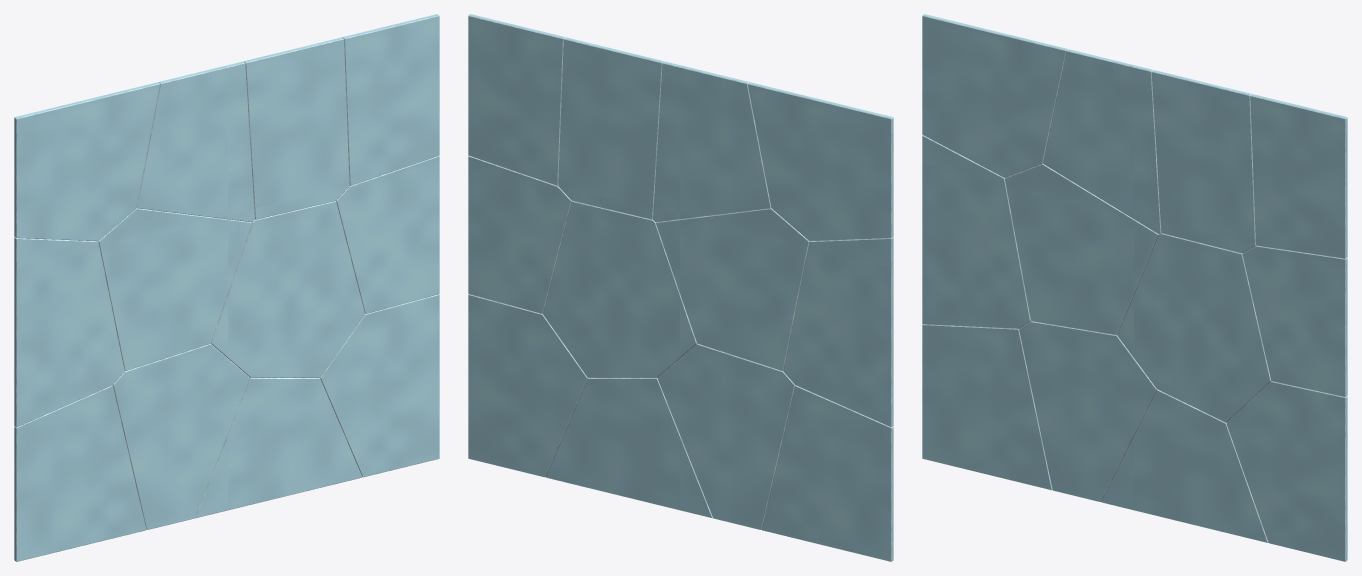
File: Kit_Glass_Wall_Fractured.fbx
3 views of the same model, side by side, from view 1: azimuth 30°, elevation 25°; view 2: azimuth 150°, elevation 25°; view 3: azimuth 330°, elevation 25° (orthographic).
Parts seen in each view (by area): view 1: Kit_Glass_Wall_frag_08, Kit_Glass_Wall_frag_03, Kit_Glass_Wall_frag_05, Kit_Glass_Wall_frag_01, Kit_Glass_Wall_frag_02, Kit_Glass_Wall_frag_04, Kit_Glass_Wall_frag_10, Kit_Glass_Wall_frag_09, Kit_Glass_Wall_frag_06, Kit_Glass_Wall_frag_07, Kit_Glass_Wall_frag_12, Kit_Glass_Wall_frag_11; view 2: Kit_Glass_Wall_frag_08, Kit_Glass_Wall_frag_03, Kit_Glass_Wall_frag_05, Kit_Glass_Wall_frag_01, Kit_Glass_Wall_frag_02, Kit_Glass_Wall_frag_04, Kit_Glass_Wall_frag_10, Kit_Glass_Wall_frag_09, Kit_Glass_Wall_frag_06, Kit_Glass_Wall_frag_07, Kit_Glass_Wall_frag_12, Kit_Glass_Wall_frag_11; view 3: Kit_Glass_Wall_frag_08, Kit_Glass_Wall_frag_03, Kit_Glass_Wall_frag_05, Kit_Glass_Wall_frag_01, Kit_Glass_Wall_frag_10, Kit_Glass_Wall_frag_04, Kit_Glass_Wall_frag_02, Kit_Glass_Wall_frag_09, Kit_Glass_Wall_frag_06, Kit_Glass_Wall_frag_07, Kit_Glass_Wall_frag_12, Kit_Glass_Wall_frag_11.
Boxes of the visible parts, box(x1,y1,x2,y2) form: Kit_Glass_Wall_frag_08: box(211, 201, 364, 377); Kit_Glass_Wall_frag_03: box(14, 82, 160, 241); Kit_Glass_Wall_frag_05: box(98, 208, 251, 371); Kit_Glass_Wall_frag_01: box(14, 385, 146, 561); Kit_Glass_Wall_frag_02: box(14, 237, 124, 427); Kit_Glass_Wall_frag_04: box(112, 343, 250, 529); Kit_Glass_Wall_frag_10: box(320, 294, 439, 477); Kit_Glass_Wall_frag_09: box(244, 37, 349, 219); Kit_Glass_Wall_frag_06: box(136, 61, 254, 222); Kit_Glass_Wall_frag_07: box(195, 378, 361, 518); Kit_Glass_Wall_frag_12: box(342, 14, 439, 185); Kit_Glass_Wall_frag_11: box(336, 155, 439, 313); Kit_Glass_Wall_frag_08: box(543, 201, 696, 377); Kit_Glass_Wall_frag_03: box(747, 82, 893, 241); Kit_Glass_Wall_frag_05: box(656, 208, 809, 370); Kit_Glass_Wall_frag_01: box(761, 385, 893, 561); Kit_Glass_Wall_frag_02: box(783, 237, 893, 427); Kit_Glass_Wall_frag_04: box(657, 343, 795, 529); Kit_Glass_Wall_frag_10: box(468, 294, 587, 477); Kit_Glass_Wall_frag_09: box(558, 37, 663, 219); Kit_Glass_Wall_frag_06: box(653, 61, 771, 222); Kit_Glass_Wall_frag_07: box(546, 378, 712, 518); Kit_Glass_Wall_frag_12: box(468, 14, 565, 185); Kit_Glass_Wall_frag_11: box(468, 155, 571, 313); Kit_Glass_Wall_frag_08: box(1117, 233, 1270, 422); Kit_Glass_Wall_frag_03: box(922, 14, 1068, 177); Kit_Glass_Wall_frag_05: box(1005, 163, 1158, 335); Kit_Glass_Wall_frag_01: box(922, 324, 1052, 490); Kit_Glass_Wall_frag_10: box(1226, 381, 1347, 561); Kit_Glass_Wall_frag_04: box(1019, 321, 1156, 501); Kit_Glass_Wall_frag_02: box(922, 135, 1030, 328); Kit_Glass_Wall_frag_09: box(1151, 70, 1255, 253); Kit_Glass_Wall_frag_06: box(1043, 49, 1161, 233); Kit_Glass_Wall_frag_07: box(1101, 389, 1268, 542); Kit_Glass_Wall_frag_12: box(1250, 94, 1347, 258); Kit_Glass_Wall_frag_11: box(1242, 245, 1347, 397).
Size of what is drawn, in the model's own units: 3 by 3 by 0.03.
Materials: 2 (2 with a texture image).
